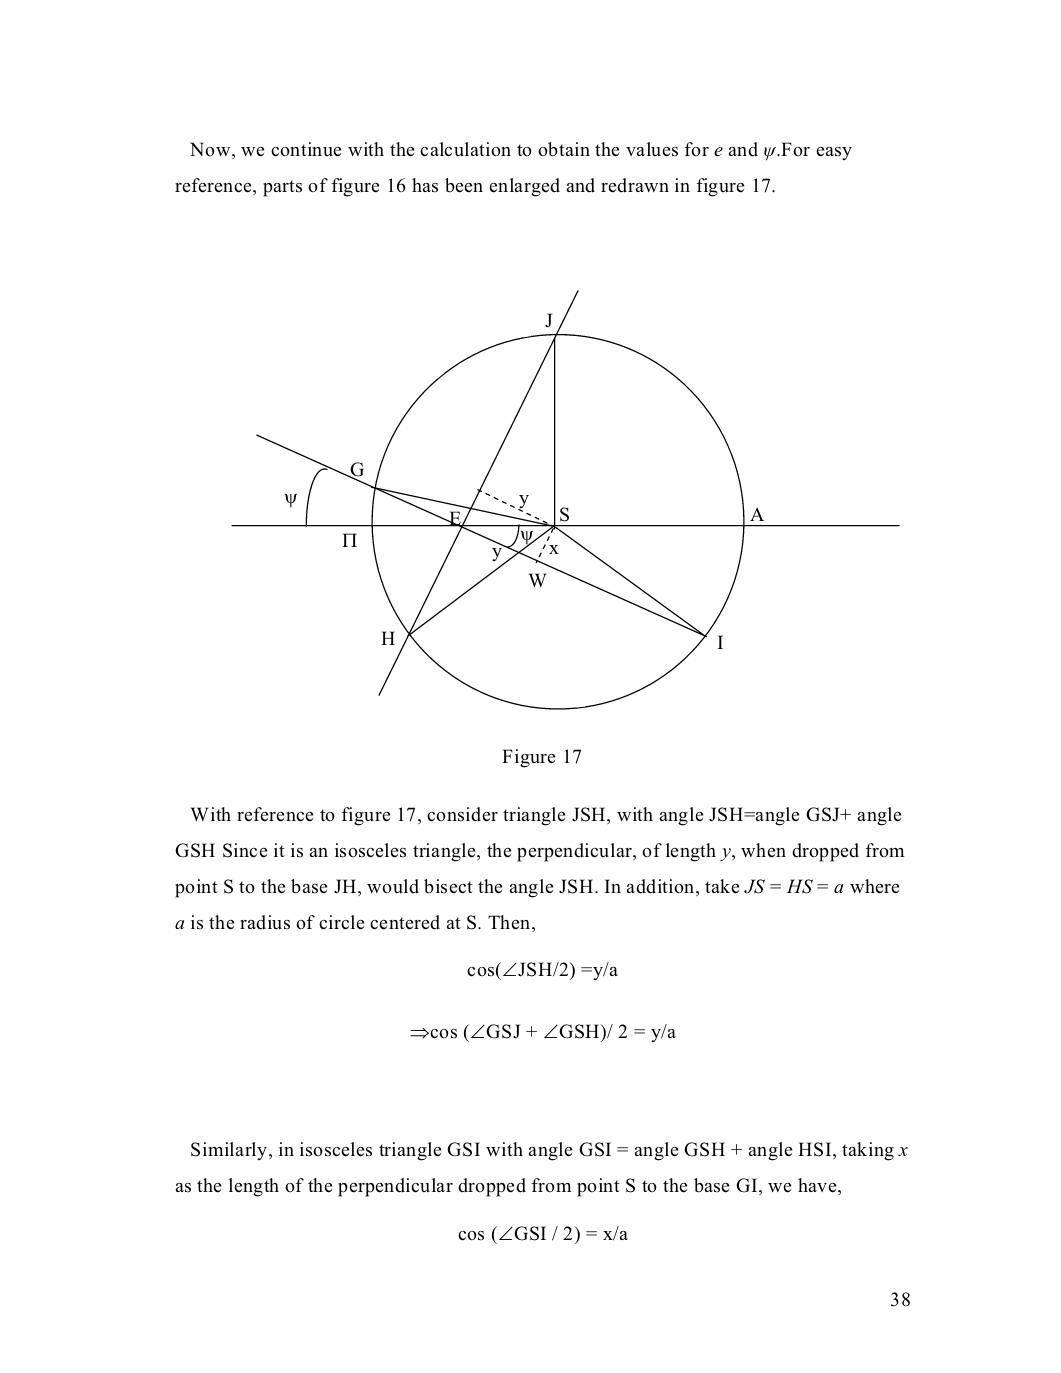figure: (231, 289, 899, 710)
formula: (410, 1024, 675, 1042), (458, 1226, 627, 1243), (467, 962, 617, 980)
